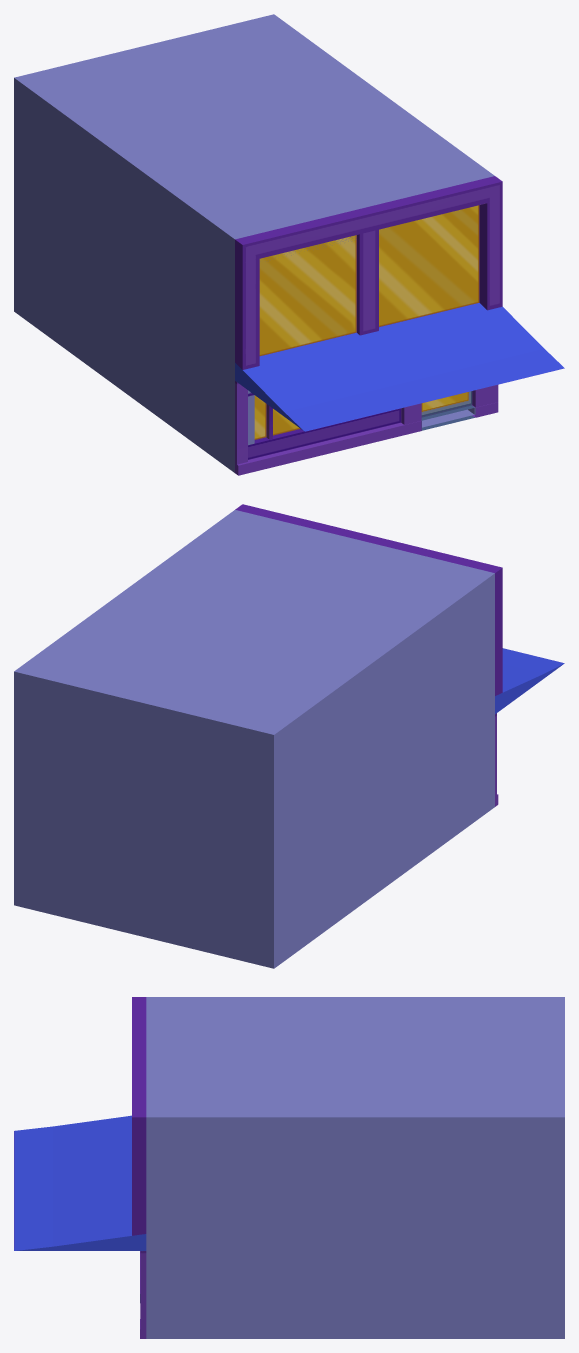
Rendered from ZachBldg2.fbx.
The picture shows the model from 3 angles, top to bottom: view 1: azimuth 30°, elevation 25°; view 2: azimuth 150°, elevation 25°; view 3: azimuth 270°, elevation 25°; orthographic projection. The views are drawn at different scales.
Visible parts, largest first — view 1: Inside_Building5, B2:building_1:polySurface9; view 2: Inside_Building5, B2:building_1:polySurface9; view 3: Inside_Building5, B2:building_1:polySurface9.
Part boxes in pixels (box(x1,y1,x2,y2)): Inside_Building5: box(14, 14, 494, 472); B2:building_1:polySurface9: box(235, 176, 564, 475); Inside_Building5: box(14, 510, 494, 968); B2:building_1:polySurface9: box(235, 504, 564, 806); Inside_Building5: box(146, 997, 564, 1338); B2:building_1:polySurface9: box(14, 997, 146, 1338).
Size of the model in its own units: 5.54 by 4.76 by 10.74.
Materials: 2 (1 with a texture image).
